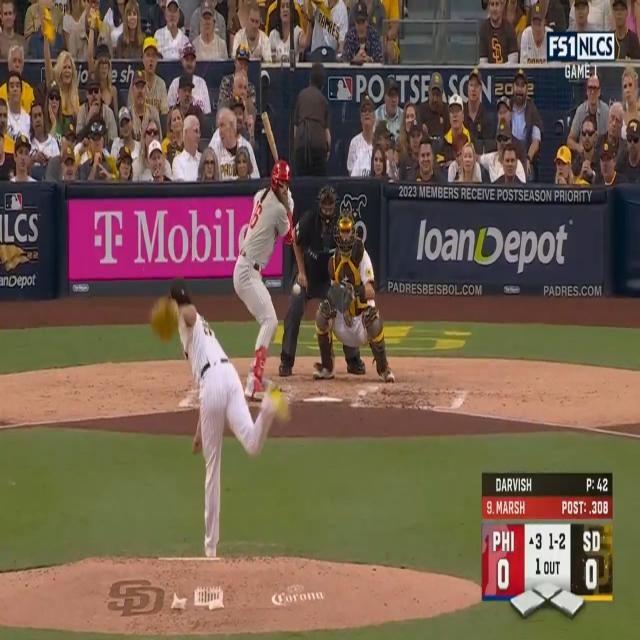baseball: (293, 282, 301, 295)
